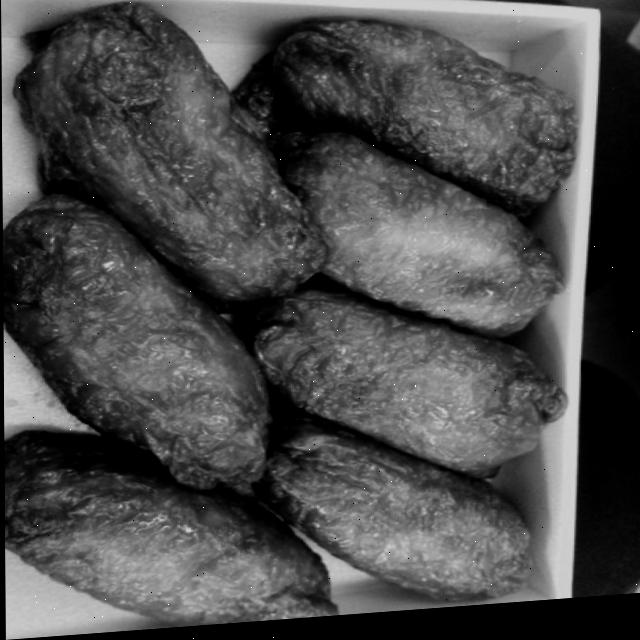寿司卷物: (0, 0, 624, 640)
